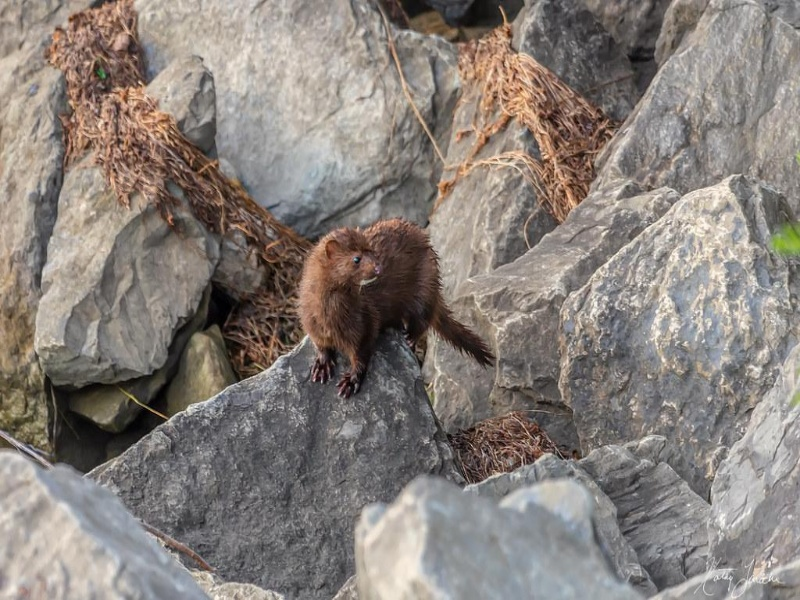minkish: (297, 220, 496, 397)
